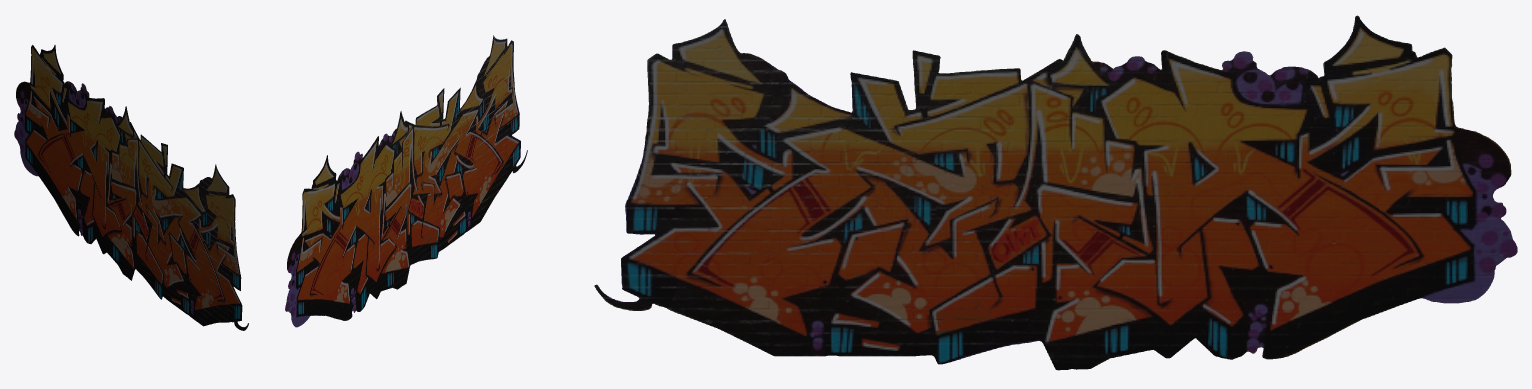
File: SM_Decal03.fbx
3 views of the same model, side by side, from view 1: azimuth 30°, elevation 25°; view 2: azimuth 150°, elevation 25°; view 3: azimuth 270°, elevation 25° (orthographic). The views are drawn at different scales.
Visible parts, largest first — view 1: SM_Decal03_LOD0; view 2: SM_Decal03_LOD0; view 3: SM_Decal03_LOD0.
Boxes of the visible parts, bbox=[...] form: SM_Decal03_LOD0: bbox=[14, 45, 248, 330]; SM_Decal03_LOD0: bbox=[285, 35, 527, 327]; SM_Decal03_LOD0: bbox=[594, 15, 1517, 370].
Bounding box in the file's own units: 4.34e-05 × 590 × 246.
Materials: 1 (1 with a texture image).
